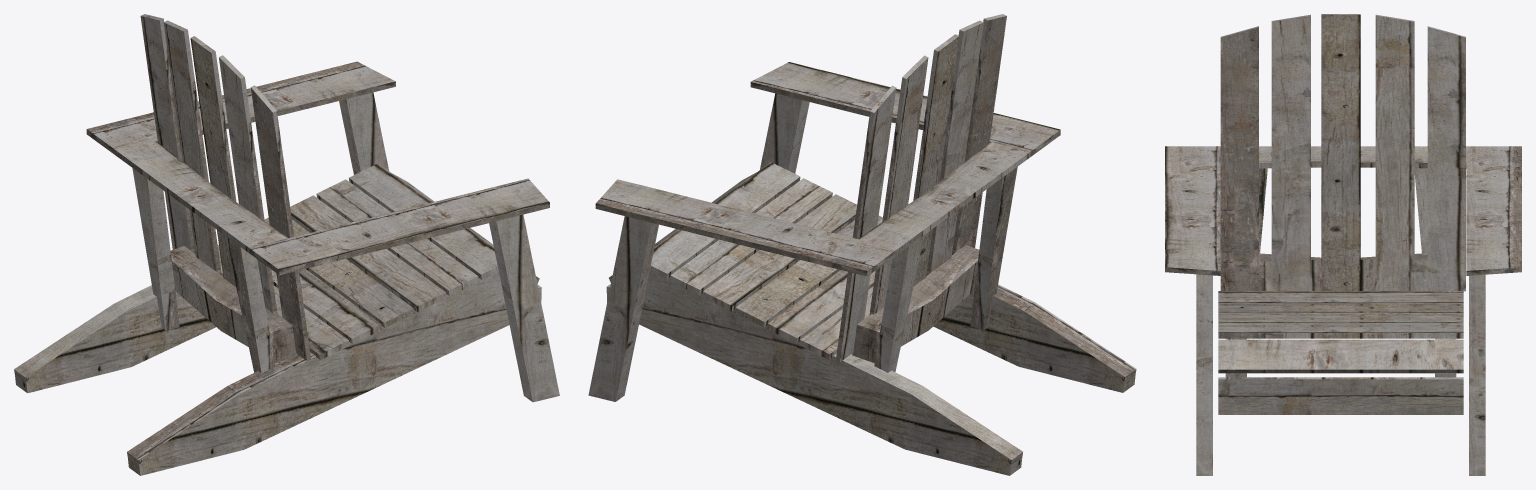
The model's file is anarondakchair.fbx.
3 views of the same model, side by side, from view 1: azimuth 30°, elevation 25°; view 2: azimuth 150°, elevation 25°; view 3: azimuth 270°, elevation 25° (orthographic). The views are drawn at different scales.
Parts seen in each view (by area): view 1: Cube; view 2: Cube; view 3: Cube.
Boxes of the visible parts, <box> form: Cube: <box>14,14,559,475</box>; Cube: <box>588,14,1136,475</box>; Cube: <box>1165,14,1521,475</box>.
Bounding box in the file's own units: 296 × 253 × 244.
1 material, 1 textured.
